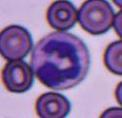N: (30, 31, 90, 87)
